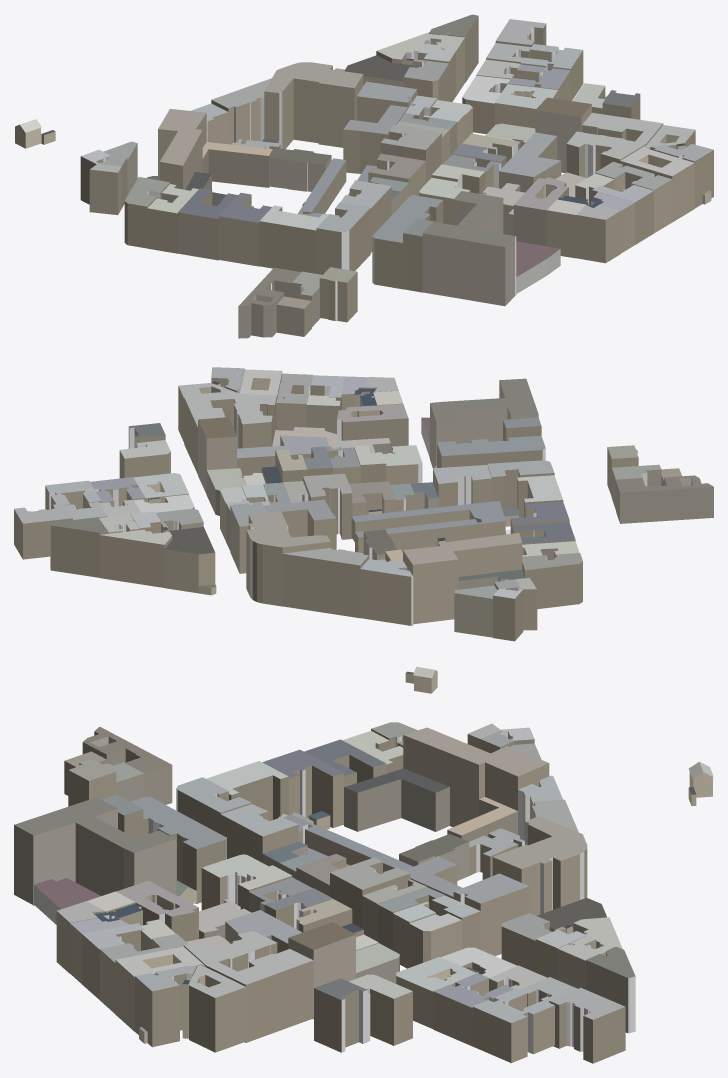
The picture shows the model from 3 angles, top to bottom: view 1: azimuth 30°, elevation 25°; view 2: azimuth 150°, elevation 25°; view 3: azimuth 270°, elevation 25°; orthographic projection. The views are drawn at different scales.
Parts seen in each view (by area): view 1: tuile; view 2: tuile; view 3: tuile.
Boxes of the visible parts, left/top/right/bottom form: tuile: left=15, top=14, right=713, bottom=338; tuile: left=14, top=367, right=713, bottom=693; tuile: left=14, top=722, right=713, bottom=1063.
Bounding box in the file's own units: 274 × 33.82 × 270.
